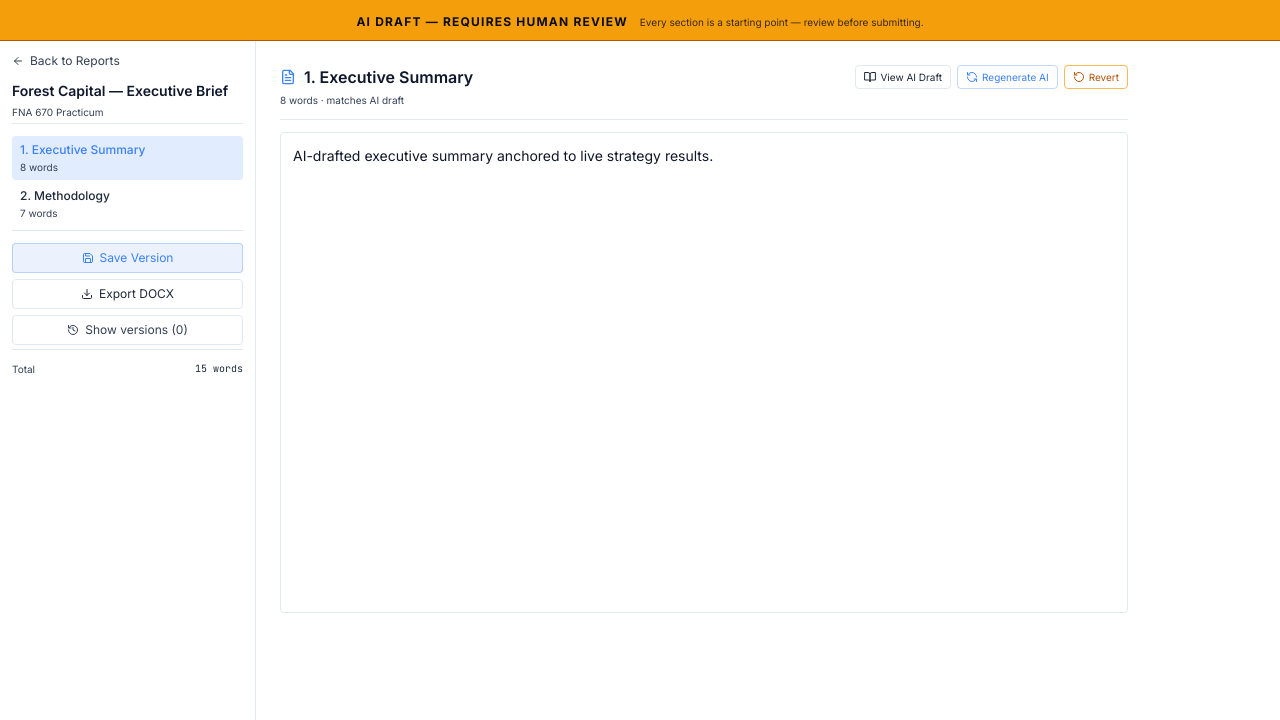
SectionEditor — rendering › Revert button opens a confirmation dialog
The width and height of the screenshot is (1280, 720).
Step 1. Click the button with test id "revert-button" → coordinates (1096, 77), box [1064, 65, 1128, 89]
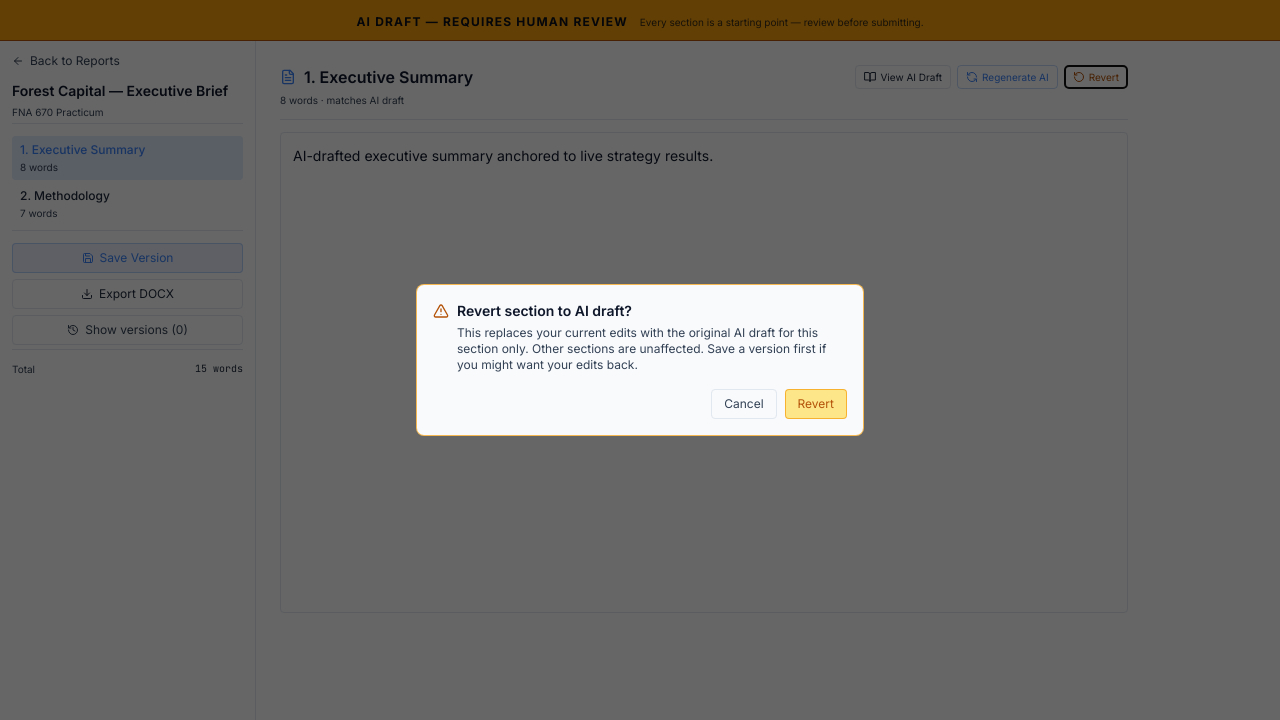
Expected: the heading "Revert section to AI draft?" is shown, [457, 302, 632, 319]
Expected: the button with test id "confirm-revert-button" is shown, [784, 389, 847, 419]
